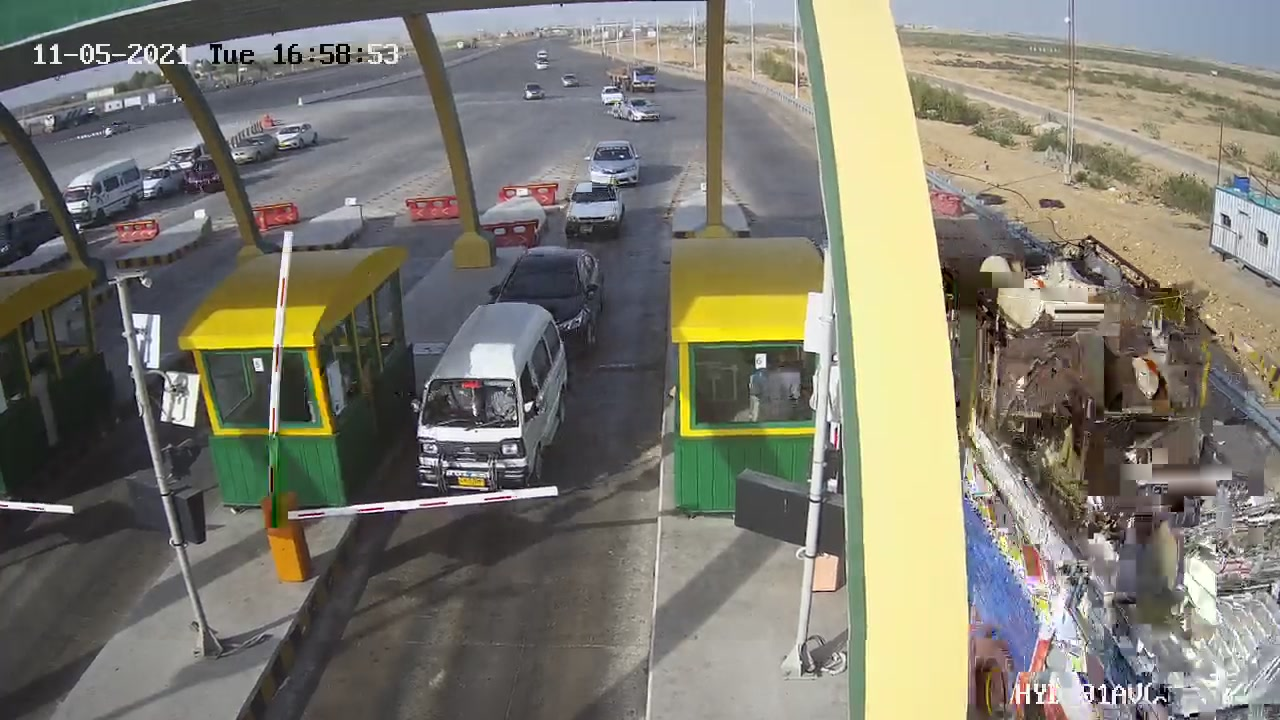F1: (394, 289, 585, 510)
